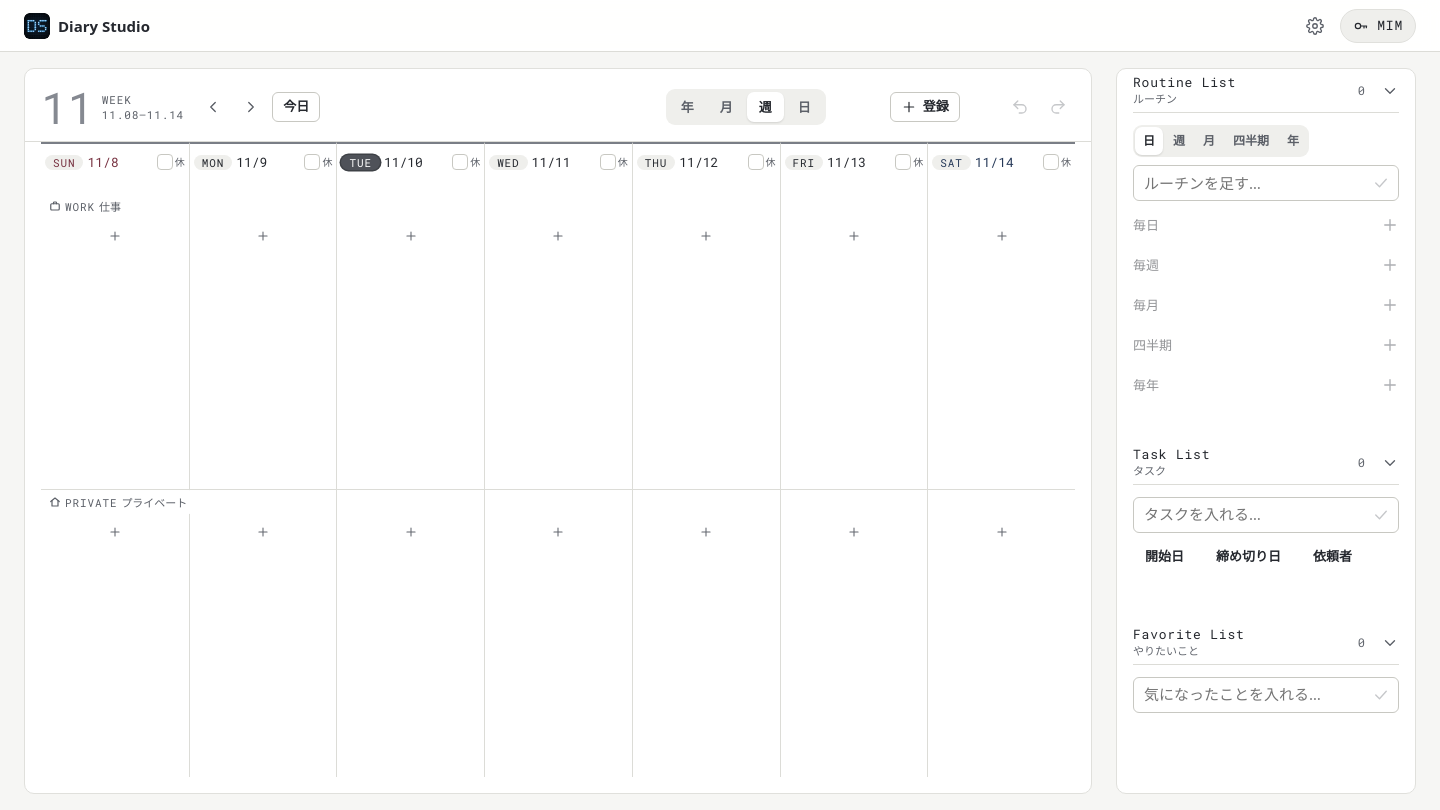
Test: S3 入力欄（15.1・3.6・12.1。S3-FRAME-272・273・288・S3-ROUTINE-176） › PC: Enter でいちばん上に足し（前後の空白は落とす）、欄と書きかけを空にしてフォーカスを残し、足した行を目立たせる。お知らせは出さない
The width and height of the screenshot is (1440, 810).
Click the text box with placeholder "気になったことを入れる…" at (1266, 695), box [1133,677,1399,713]
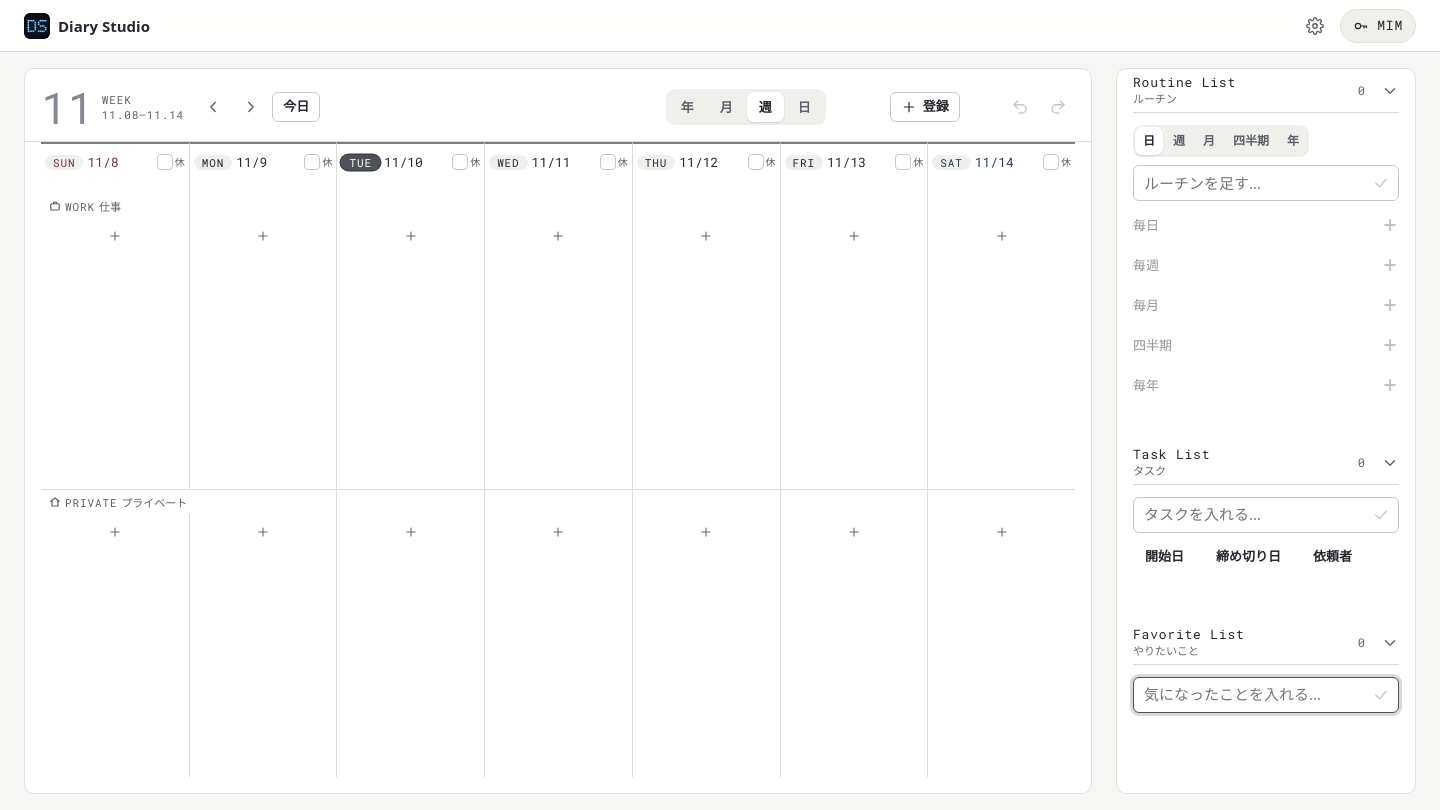
Type keys "  帽子を買う  "
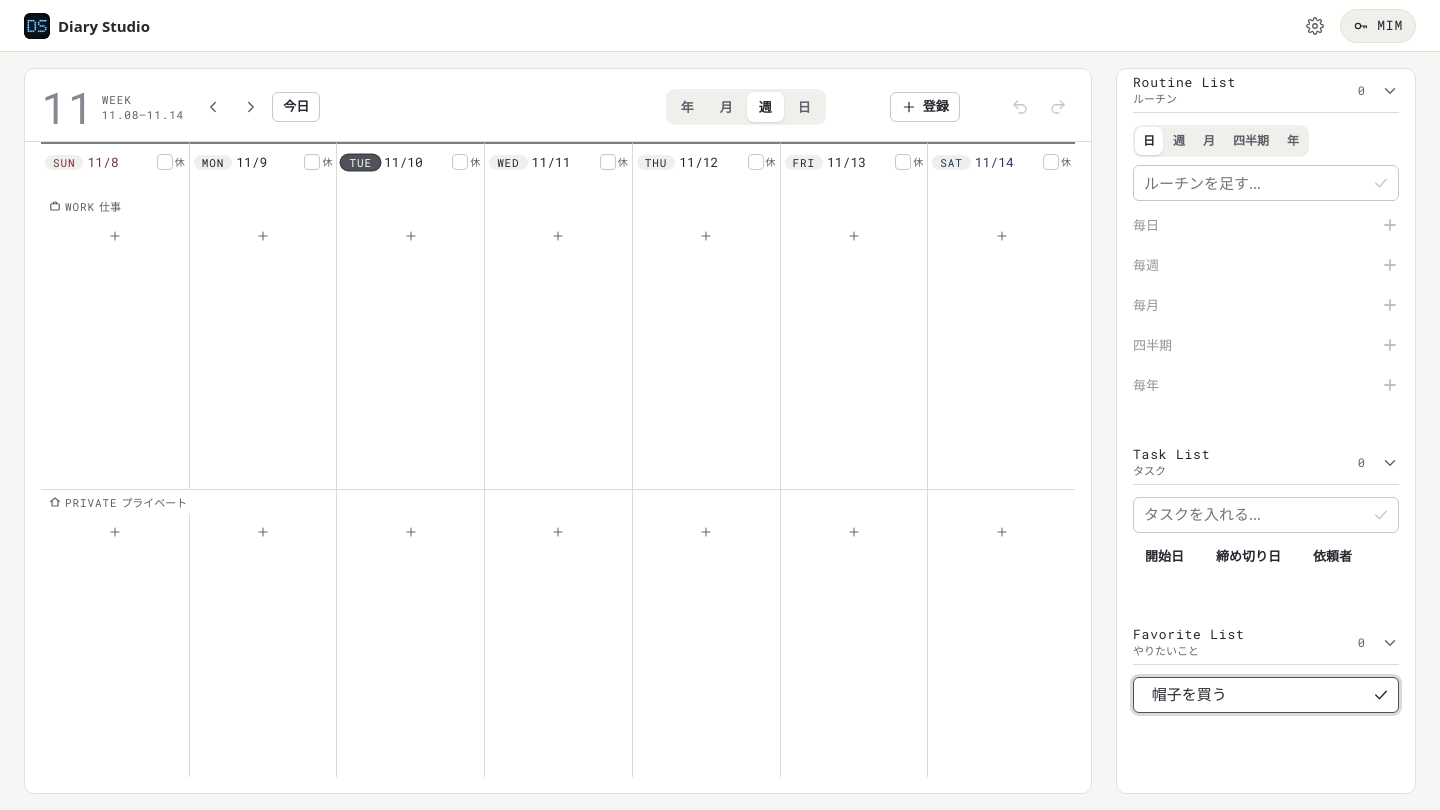
Press Enter
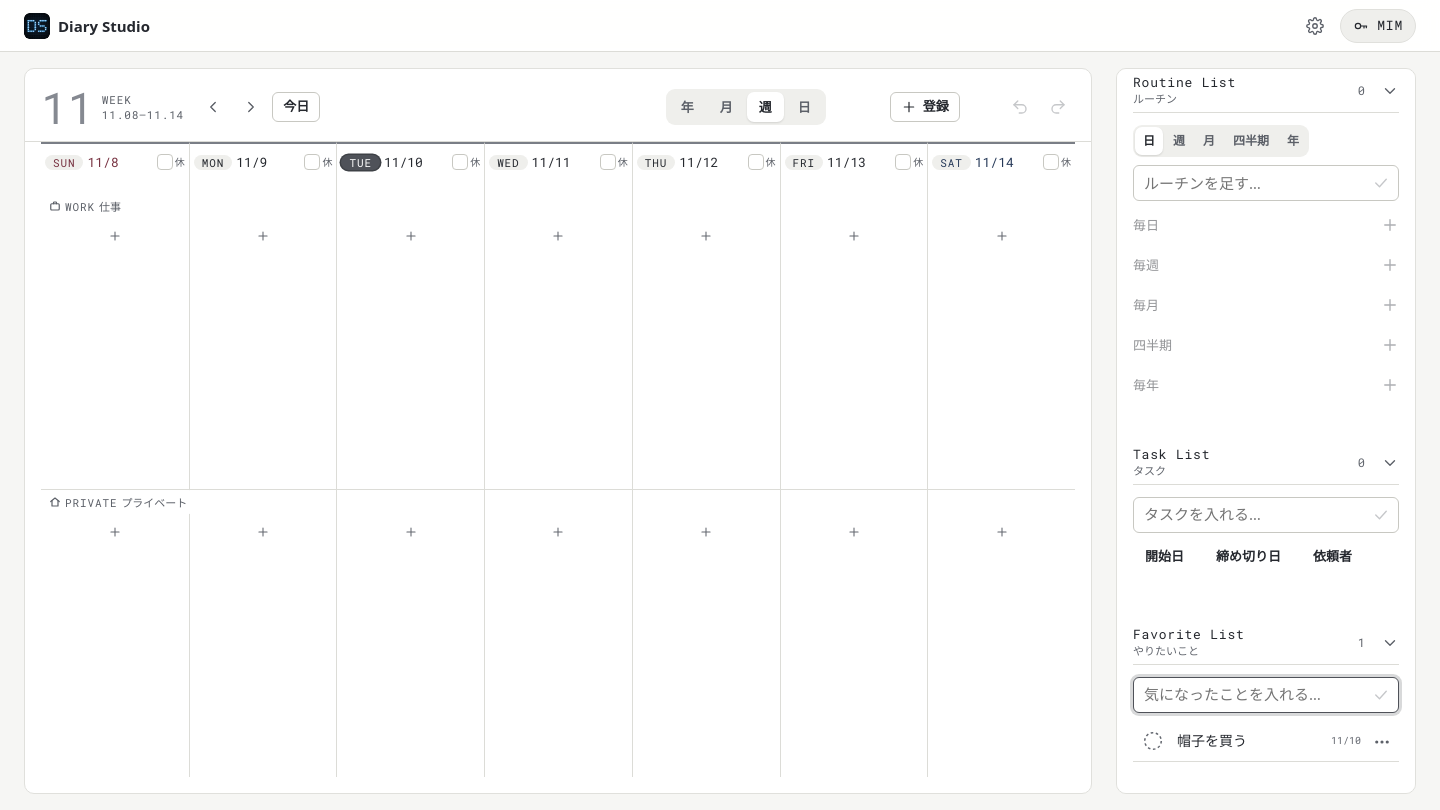
Check: the text "帽子を買う" is shown, box [1177,731,1247,750]
